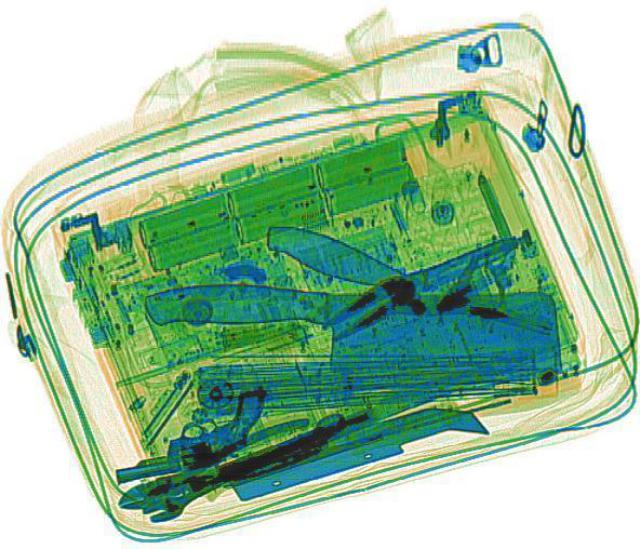Gun: (97, 386, 281, 482)
Knife: (140, 281, 558, 383), (255, 215, 557, 346)
Pliers: (101, 412, 325, 520)
Wrench: (134, 411, 356, 526)
